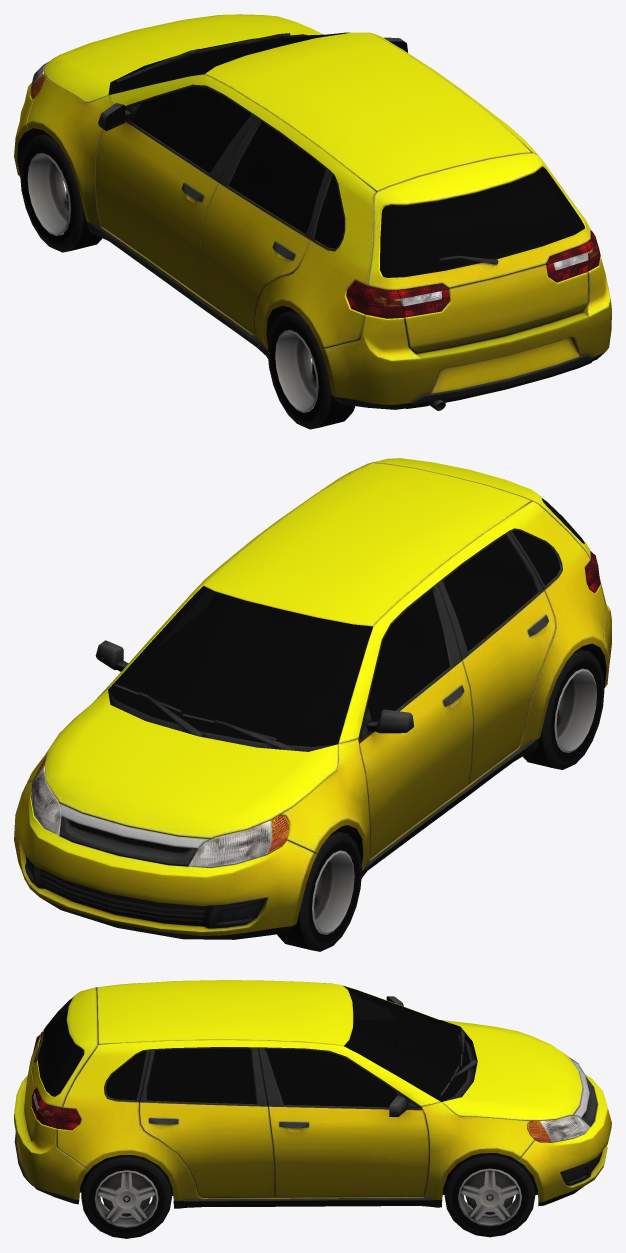
The model's file is hatchback.glb.
3 views of the same model, one above another, from view 1: azimuth 30°, elevation 25°; view 2: azimuth 150°, elevation 25°; view 3: azimuth 270°, elevation 25° (orthographic). The views are drawn at different scales.
Parts seen in each view (by area): view 1: Hatchback_Body, wheel_1, wheel_3; view 2: Hatchback_Body, wheel_3, wheel_1; view 3: Hatchback_Body, wheel_2, wheel_0.
Boxes of the visible parts, <box> form: Hatchback_Body: <box>14,14,611,410</box>; wheel_1: <box>267,310,355,429</box>; wheel_3: <box>20,133,102,252</box>; Hatchback_Body: <box>14,458,611,939</box>; wheel_3: <box>277,830,361,951</box>; wheel_1: <box>523,649,604,769</box>; Hatchback_Body: <box>14,980,611,1208</box>; wheel_2: <box>444,1153,535,1237</box>; wheel_0: <box>81,1155,171,1238</box>.
Bounding box in the file's own units: 1.96 × 1.52 × 4.45.
4 materials, 3 textured.
